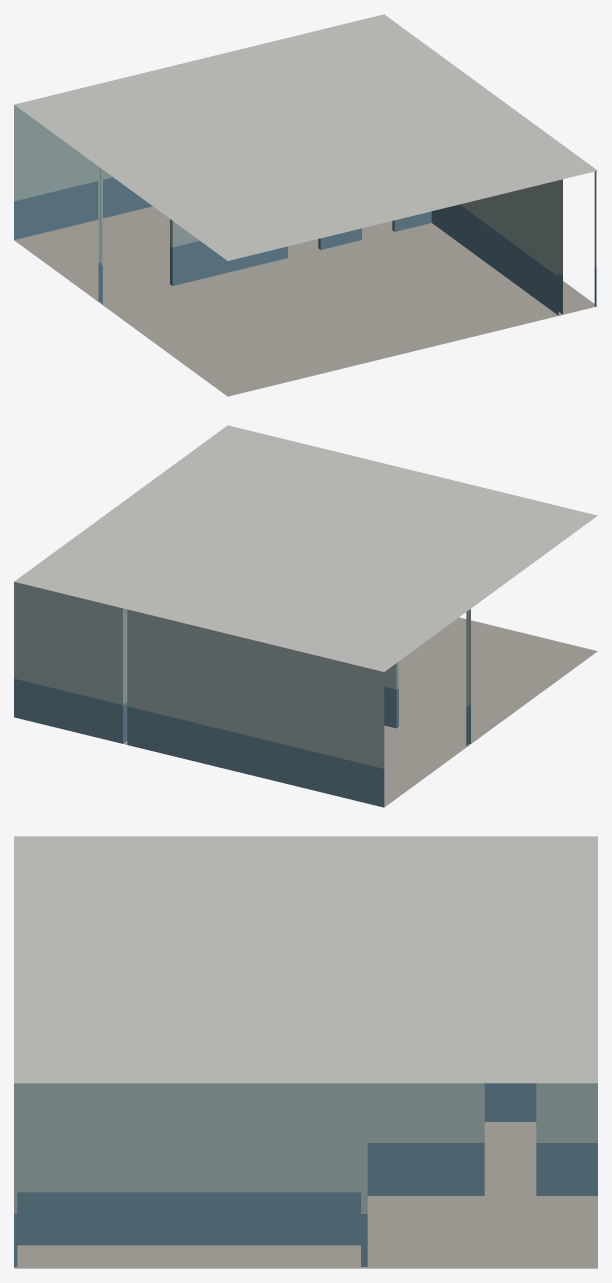
The model's file is chunk_3_0.glb.
3 views of the same model, one above another, from view 1: azimuth 30°, elevation 25°; view 2: azimuth 150°, elevation 25°; view 3: azimuth 270°, elevation 25° (orthographic). The views are drawn at different scales.
Parts seen in each view (by area): view 1: chunk_3_0; view 2: chunk_3_0; view 3: chunk_3_0.
Boxes of the visible parts, x1,y1,x2,y2 form: chunk_3_0: (14,14,597,396); chunk_3_0: (14,425,597,807); chunk_3_0: (14,836,597,1268).
Bounding box in the file's own units: 12 × 4.2 × 12.
